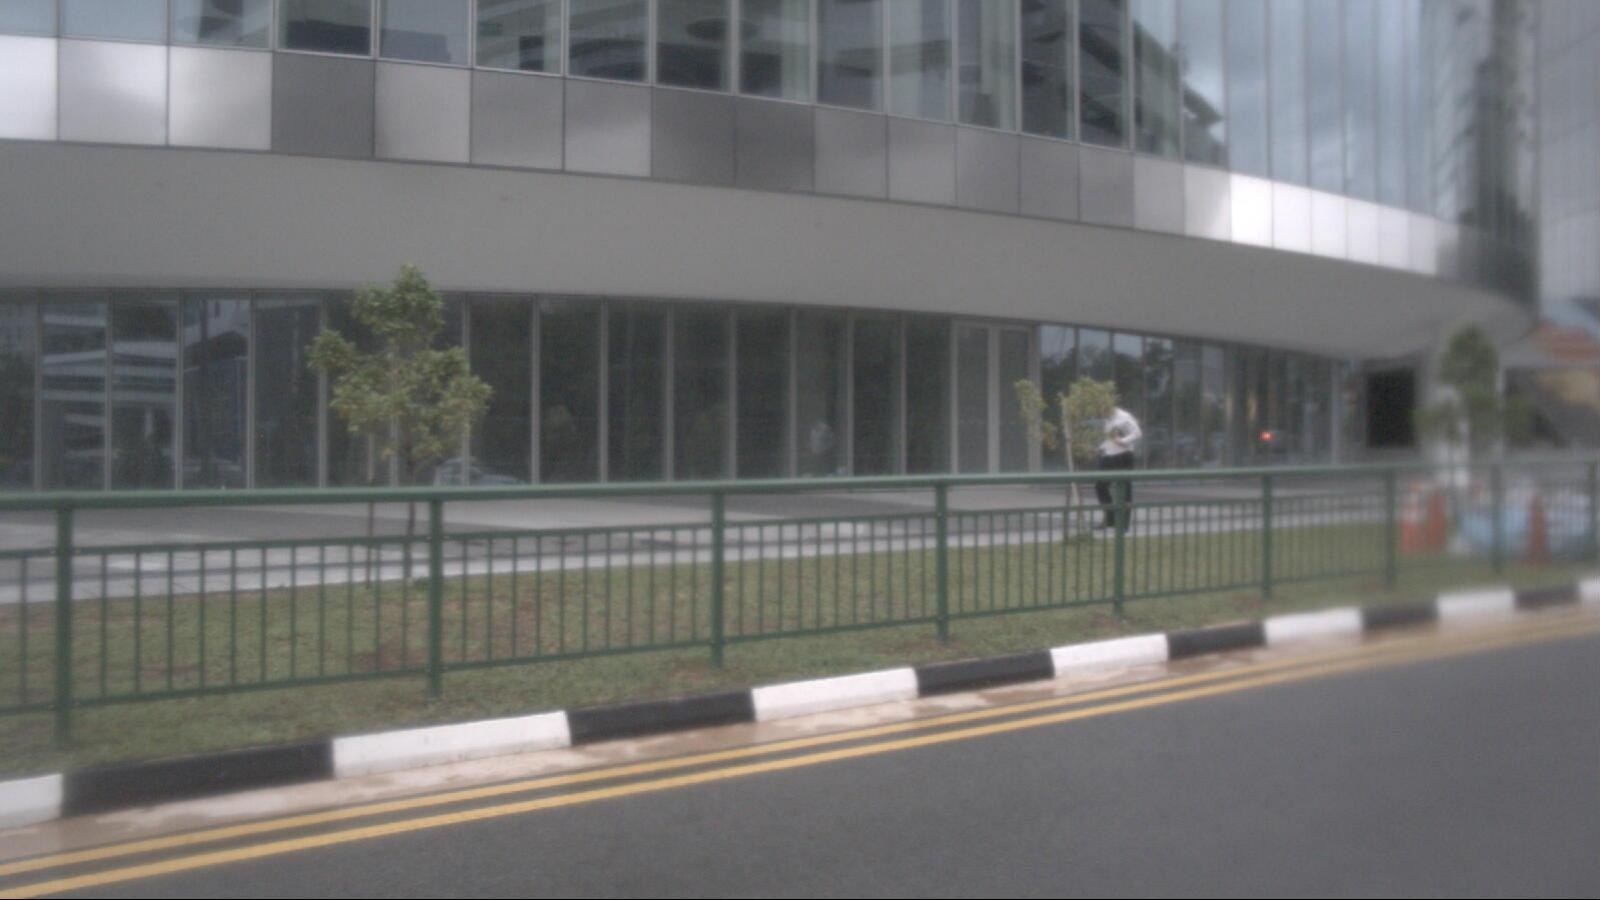human.pedestrian.adult-pedestrian.moving: (1087, 389, 1143, 535)
